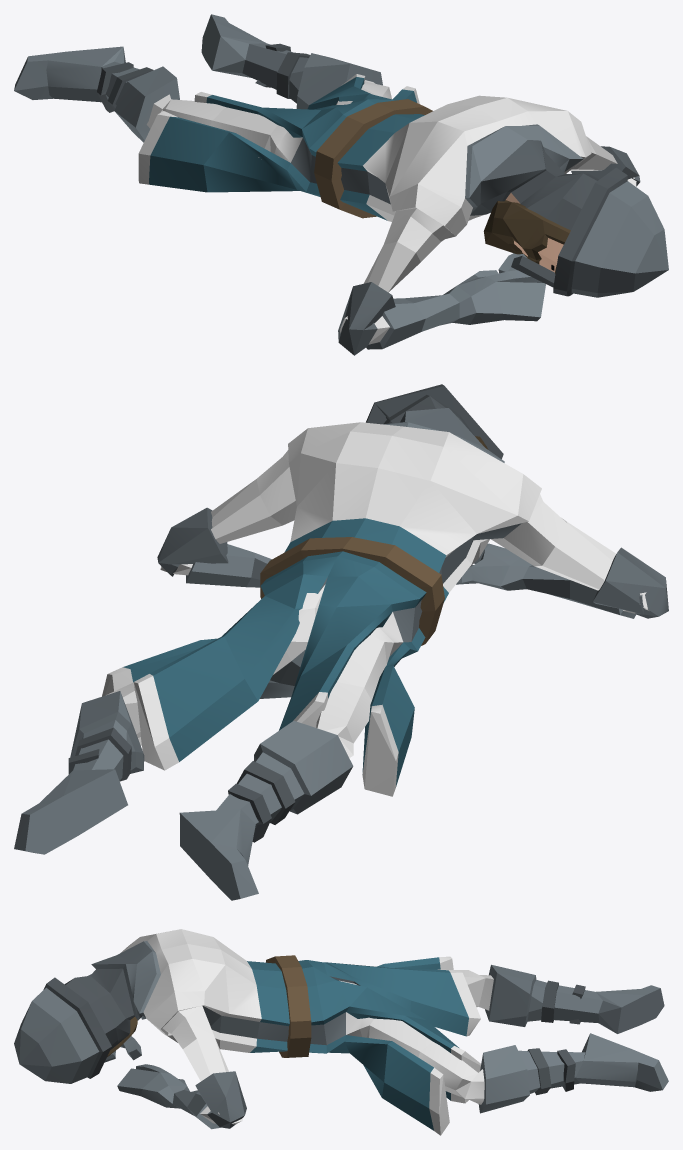
File: SM_Dead_Soldier_08.fbx
The picture shows the model from 3 angles, top to bottom: view 1: azimuth 30°, elevation 25°; view 2: azimuth 150°, elevation 25°; view 3: azimuth 270°, elevation 25°; orthographic projection. The views are drawn at different scales.
Visible parts, largest first — view 1: SM_Dead_Soldier_08; view 2: SM_Dead_Soldier_08; view 3: SM_Dead_Soldier_08.
Boxes of the visible parts, box(x1,y1,x2,y2) form: SM_Dead_Soldier_08: box(14, 14, 668, 355); SM_Dead_Soldier_08: box(14, 384, 668, 900); SM_Dead_Soldier_08: box(14, 929, 668, 1135).
Bounding box in the file's own units: 96.56 × 47.57 × 184.
